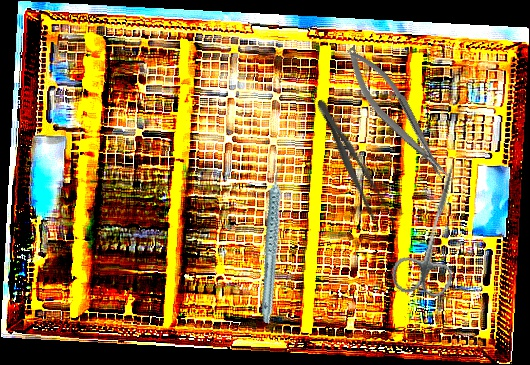Dressing Forceps: (309, 94, 399, 233)
Handpiece: (229, 161, 320, 325)
Iris Scissors: (387, 155, 480, 303)
Needle Holder: (337, 38, 455, 190)
